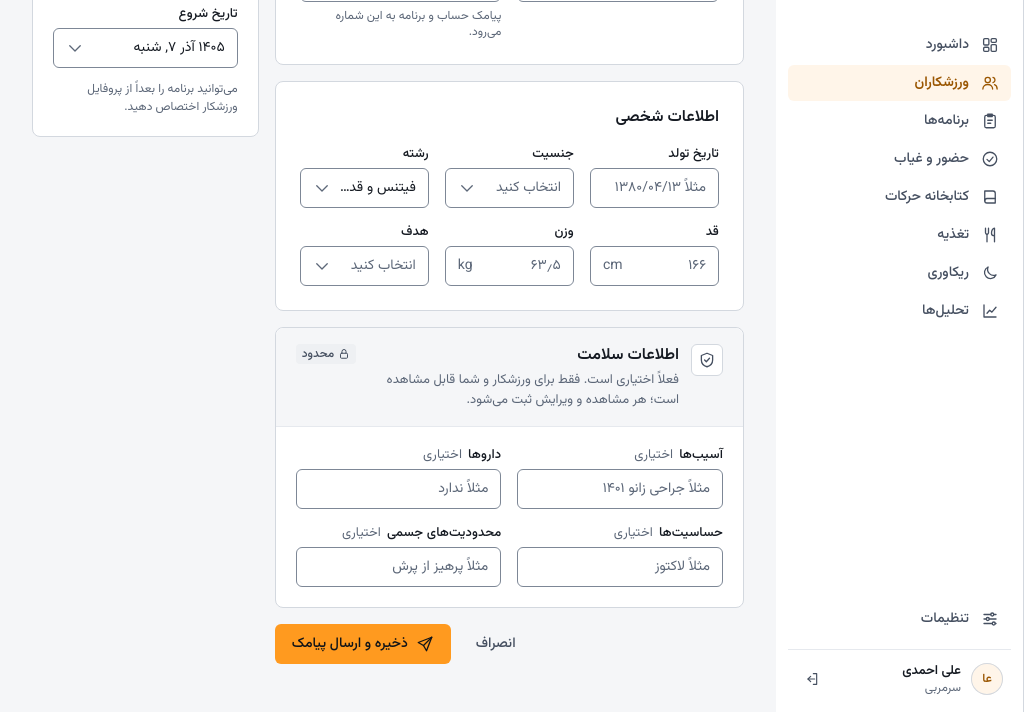
Test: C13 · Add athlete › needs a name and a valid mobile number (no e-mail)
(page scrolled)
Click the button "ذخیره و ارسال پیامک" at (363, 644), box [275, 624, 451, 664]
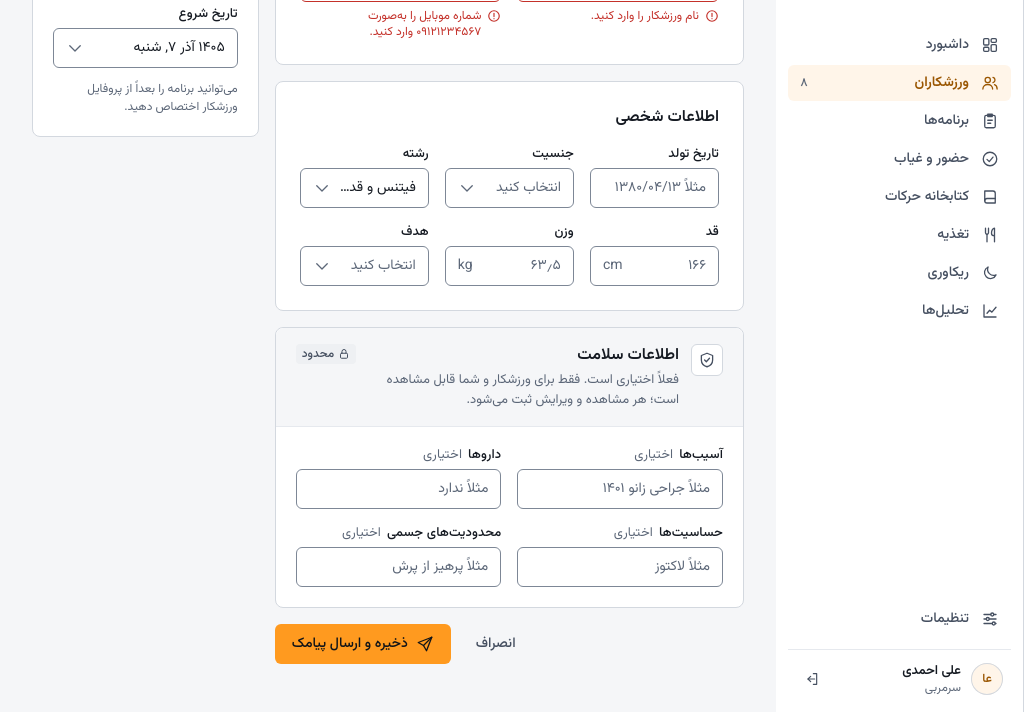
expect the text "نام ورزشکار را وارد کنید." is shown: met, box [591, 7, 719, 25]
expect the text "شماره موبایل را به‌صورت ۰۹۱۲۱۲۳۴۵۶۷ وارد کنید." is shown: met, box [368, 7, 501, 41]
